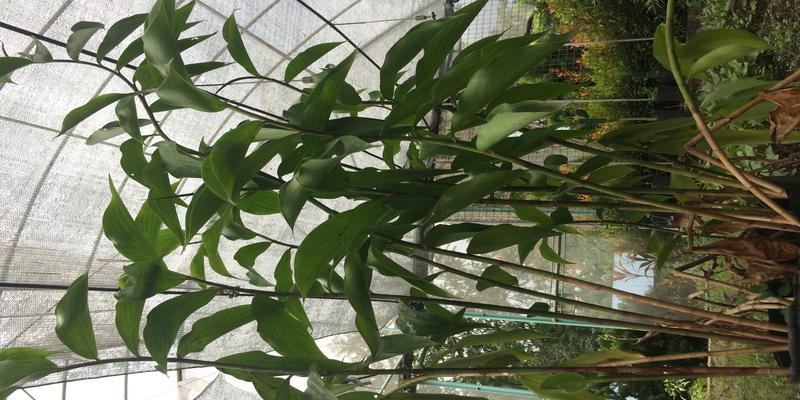Insulin: (108, 89, 704, 374)
